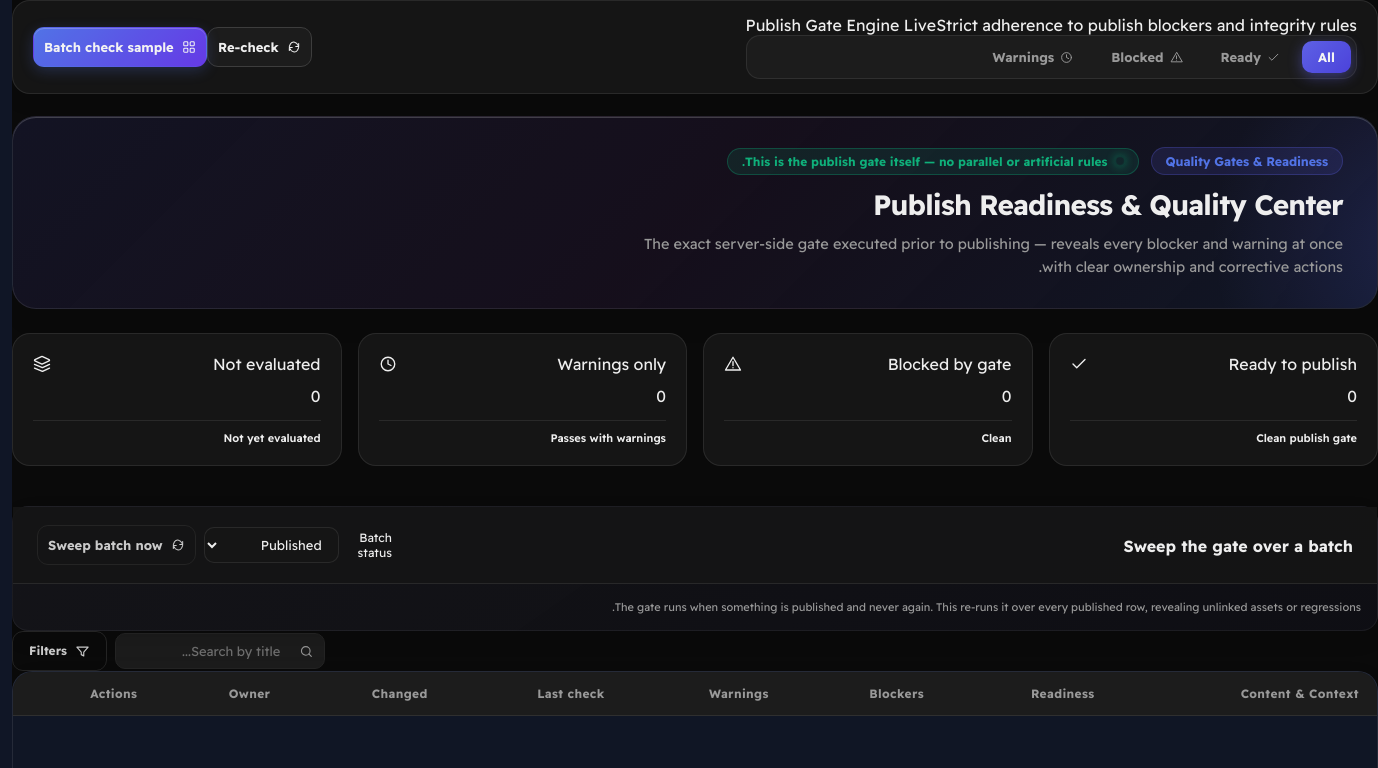
Scenario: مسح البوابة › تغيير الحالة يسأل الخادم سؤالًا آخر ويشرحه شرحًا آخر
Expected: the text "never again" is shown, [612,600,1361,614]
Select "Ready" in the dropdown labelled "Batch status" at [271, 545], box [204,527,339,563]
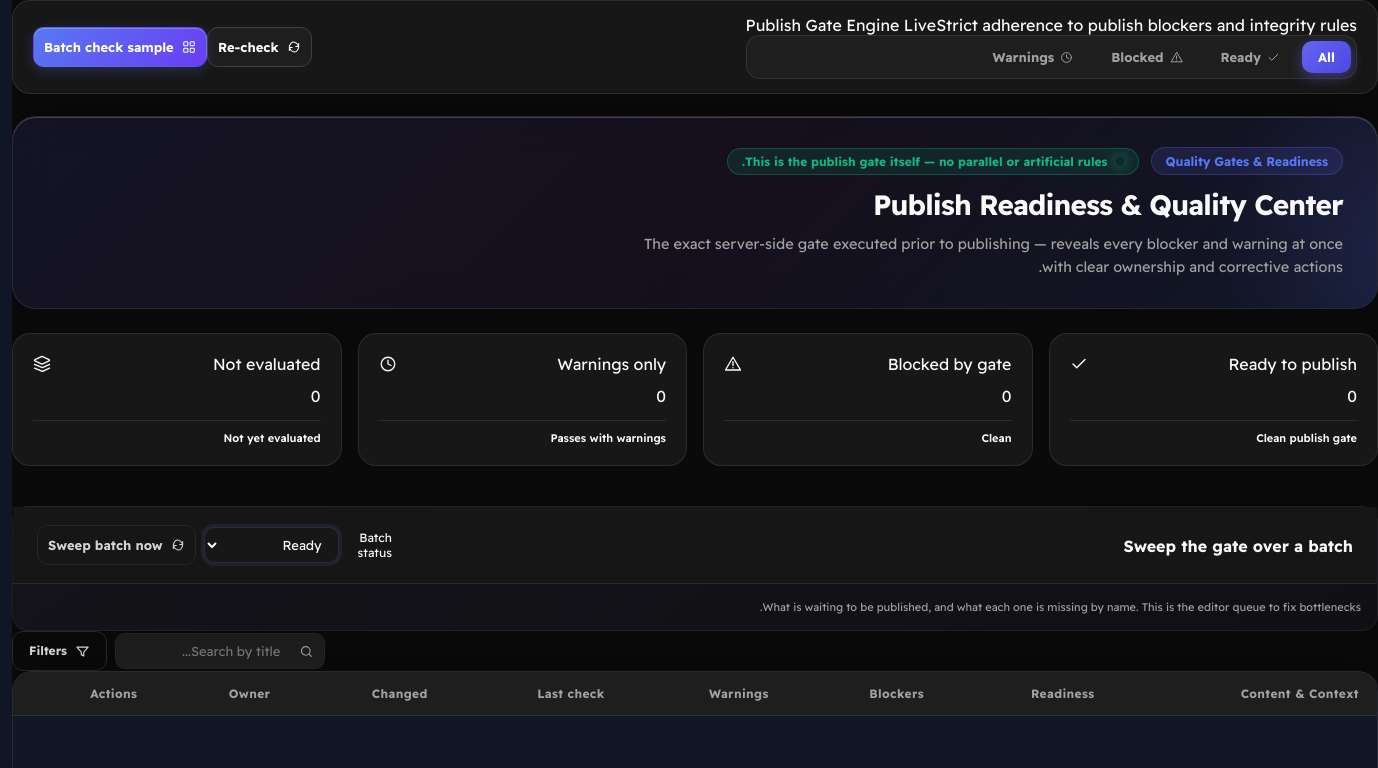
Expected: the text "editor queue" is shown, [760,600,1361,614]
Click the button "Sweep batch now".
click(116, 545)  # box [37,525,196,565]
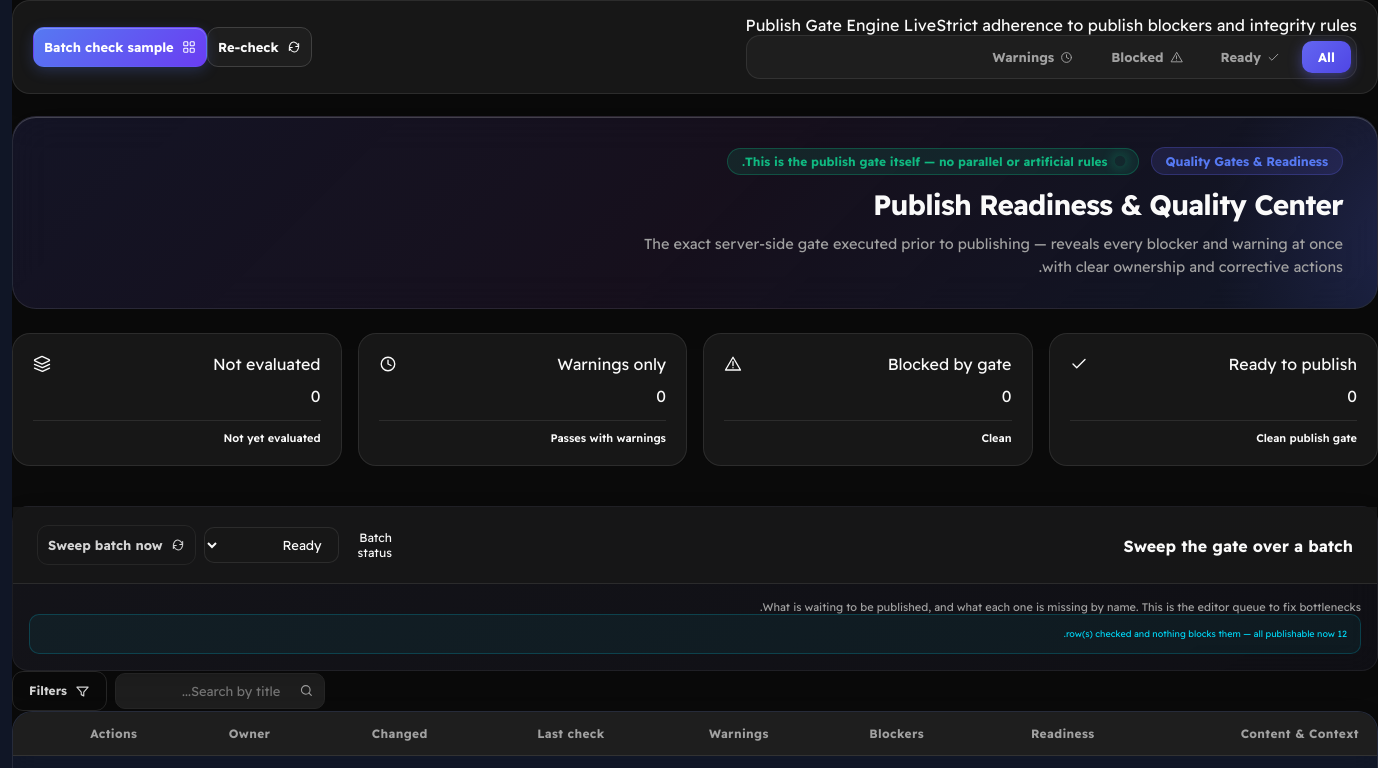
Expected: the text "12 row(s) checked and nothing blocks them" is shown, [1064,628,1347,639]
